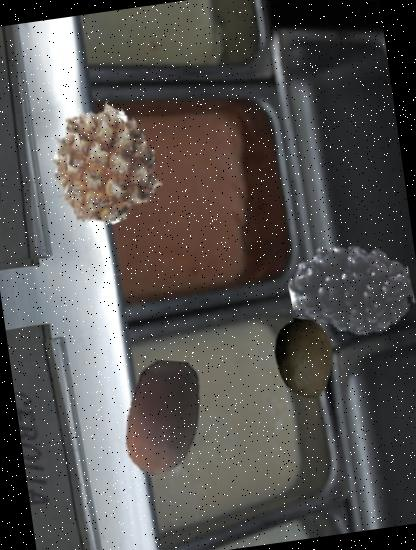Hazelnut: (95, 352, 228, 486)
Mulberry: (282, 221, 416, 359)
Papaya: (258, 314, 348, 404)
Pineapple: (37, 98, 170, 231)
